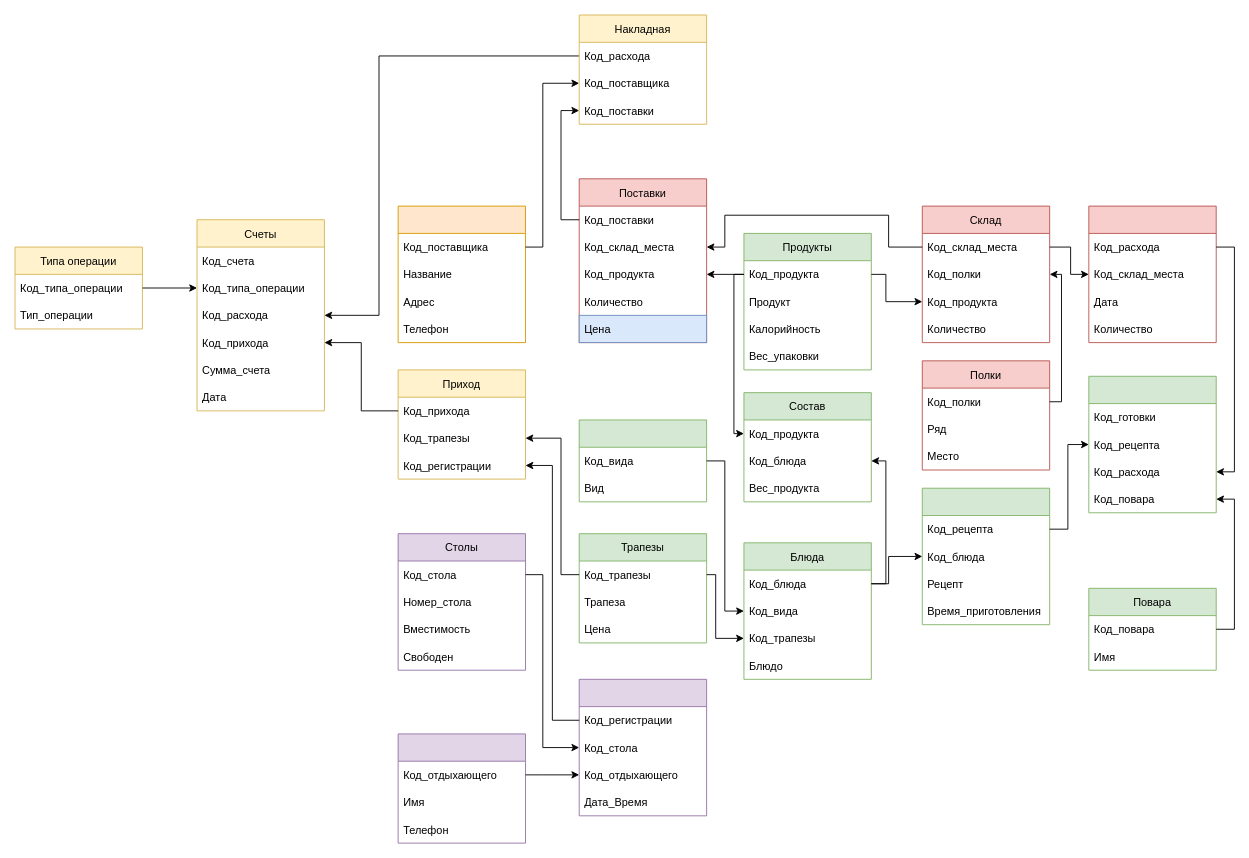
This 1249x858 diagram has some shape labels left out. Each missing label, with the box of its shape:
Виды блюда: (578, 419, 707, 502)
Готовка: (1088, 375, 1216, 513)
Отдыхающие: (397, 733, 526, 843)
Поставщики: (397, 205, 526, 343)
Расходы: (1088, 205, 1216, 343)
Регистрация: (578, 678, 707, 816)
Рецепты: (921, 487, 1050, 625)
